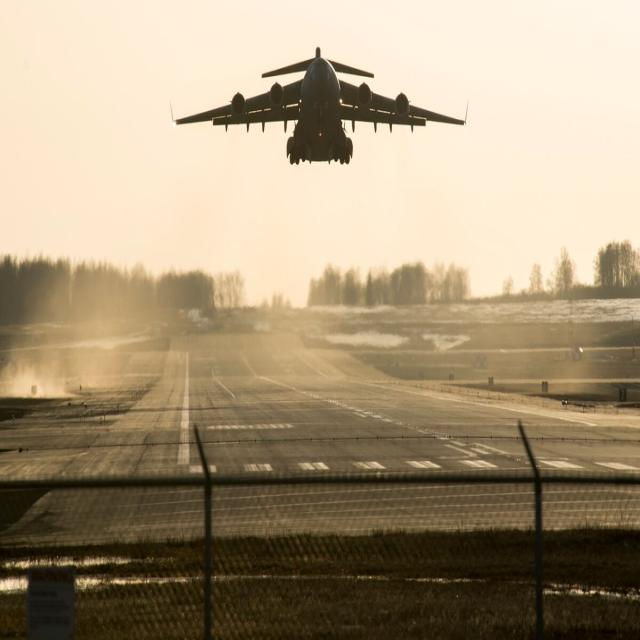MIL_Plane: (164, 47, 465, 165)
